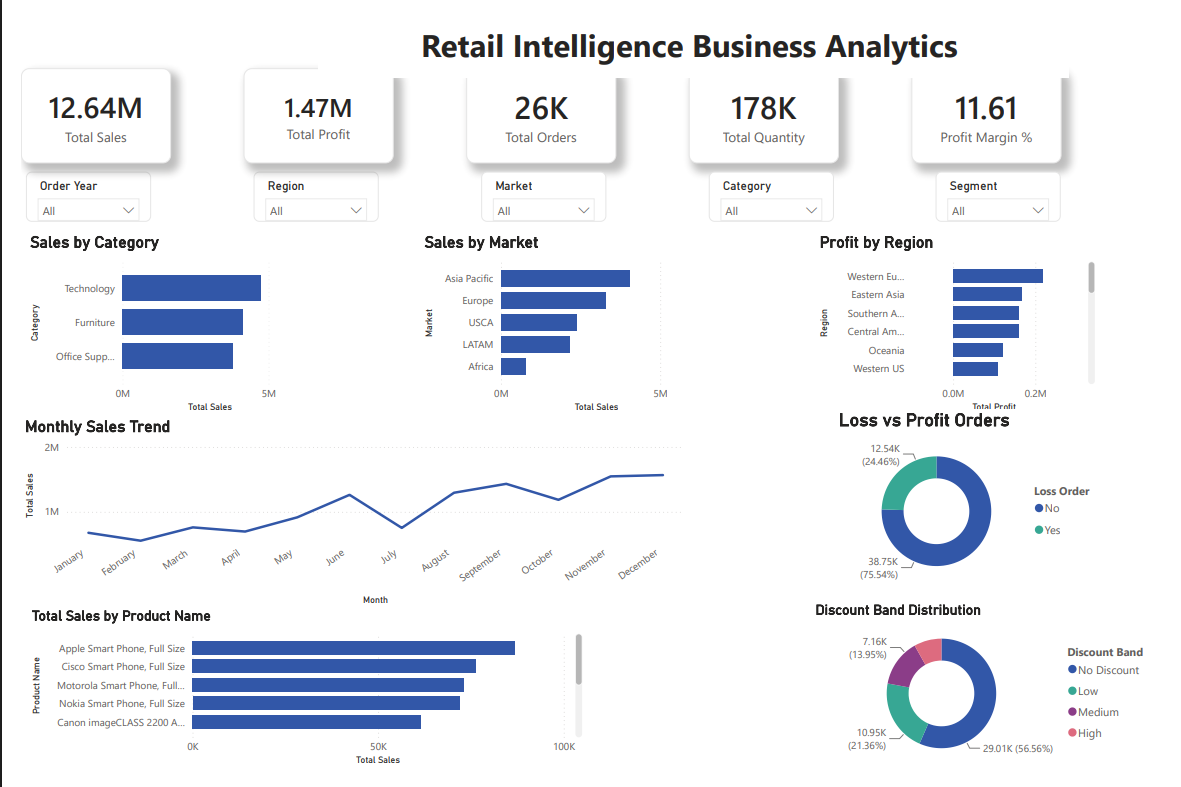

Layout of this report page (visuals, bound fields, positions):
{"tool":"powerbi","page":{"name":"Page 1","canvas":[1600,900],"ordinal":0},"visuals":[{"type":"clusteredBarChart","title":"Sales by Category","fields":{"Y":["cleaned_orders.Total Sales"],"Category":["cleaned_orders.Category"]},"box":[5.9,255.5,340,220],"z":0},{"type":"clusteredBarChart","title":"Profit by Region","fields":{"Y":["cleaned_orders.Total Profit"],"Category":["cleaned_orders.Region"]},"box":[953,255.5,340,220],"z":1000},{"type":"cardVisual","fields":{"Data":["cleaned_orders.Total Orders"]},"box":[534,59,180,114],"z":2000},{"type":"cardVisual","fields":{"Data":["cleaned_orders.Total Quantity"]},"box":[800.9,59,180,114],"z":3000},{"type":"cardVisual","fields":{"Data":["cleaned_orders.Profit Margin %"]},"box":[1067.9,59,180,114],"z":4000},{"type":"lineChart","title":"Monthly Sales Trend","fields":{"Category":["cleaned_orders.Order Date.Variation.Date Hierarchy.Year","cleaned_orders.Order Date.Variation.Date Hierarchy.Quarter","cleaned_orders.Order Date.Variation.Date Hierarchy.Month","cleaned_orders.Order Date.Variation.Date Hierarchy.Day"],"Y":["cleaned_orders.Total Sales"]},"box":[0,477.1,800,230],"z":5000},{"type":"clusteredBarChart","title":"Sales by Market","fields":{"Category":["cleaned_orders.Market"],"Y":["cleaned_orders.Total Sales"]},"box":[479.5,255.5,340,220],"z":6000},{"type":"donutChart","title":"Discount Band Distribution","fields":{"Category":["cleaned_orders.Discount Band"],"Y":["CountNonNull(cleaned_orders.Order ID)"]},"box":[948.3,698.3,420,201.7],"z":7000},{"type":"donutChart","title":"Loss vs Profit Orders","fields":{"Category":["cleaned_orders.Loss Order"],"Y":["CountNonNull(cleaned_orders.Order ID)"]},"box":[975.8,468.3,330,220],"z":8000},{"type":"clusteredBarChart","fields":{"Category":["cleaned_orders.Product Name"],"Y":["cleaned_orders.Total Sales"]},"box":[8,704.6,670,195],"z":9000},{"type":"slicer","fields":{"Values":["cleaned_orders.Order Year"]},"box":[6.4,182.8,150,60],"z":10000},{"type":"slicer","fields":{"Values":["cleaned_orders.Region"]},"box":[279.1,182.8,150,60],"z":11000},{"type":"slicer","fields":{"Values":["cleaned_orders.Market"]},"box":[551.8,182.8,150,60],"z":12000},{"type":"slicer","fields":{"Values":["cleaned_orders.Category"]},"box":[824.5,182.8,150,60],"z":13000},{"type":"slicer","fields":{"Values":["cleaned_orders.Segment"]},"box":[1097.2,182.8,150,60],"z":14000},{"type":"cardVisual","fields":{"Data":["cleaned_orders.Total Sales"]},"box":[0,59,180,114],"z":15000},{"type":"cardVisual","fields":{"Data":["cleaned_orders.Total Profit"]},"box":[267,59,180,114],"z":16000},{"type":"textbox","box":[356.7,0,900,70],"z":17000}]}

Visuals, with their boxes on the page's 1600x900 design canvas (x1, y1, x2, y2). These are canvas units, not pixel positions in the 1181x787 screenshot, which may show the page scaled, cropped or inside an application window:
"Sales by Category" clusteredBarChart: bbox(6, 256, 346, 476)
"Profit by Region" clusteredBarChart: bbox(953, 256, 1293, 476)
cardVisual - cleaned_orders.Total Orders: bbox(534, 59, 714, 173)
cardVisual - cleaned_orders.Total Quantity: bbox(801, 59, 981, 173)
cardVisual - cleaned_orders.Profit Margin %: bbox(1068, 59, 1248, 173)
"Monthly Sales Trend" lineChart: bbox(0, 477, 800, 707)
"Sales by Market" clusteredBarChart: bbox(480, 256, 820, 476)
"Discount Band Distribution" donutChart: bbox(948, 698, 1368, 900)
"Loss vs Profit Orders" donutChart: bbox(976, 468, 1306, 688)
clusteredBarChart - cleaned_orders.Product Name x cleaned_orders.Total Sales: bbox(8, 705, 678, 900)
slicer - cleaned_orders.Order Year: bbox(6, 183, 156, 243)
slicer - cleaned_orders.Region: bbox(279, 183, 429, 243)
slicer - cleaned_orders.Market: bbox(552, 183, 702, 243)
slicer - cleaned_orders.Category: bbox(824, 183, 974, 243)
slicer - cleaned_orders.Segment: bbox(1097, 183, 1247, 243)
cardVisual - cleaned_orders.Total Sales: bbox(0, 59, 180, 173)
cardVisual - cleaned_orders.Total Profit: bbox(267, 59, 447, 173)
textbox: bbox(357, 0, 1257, 70)
